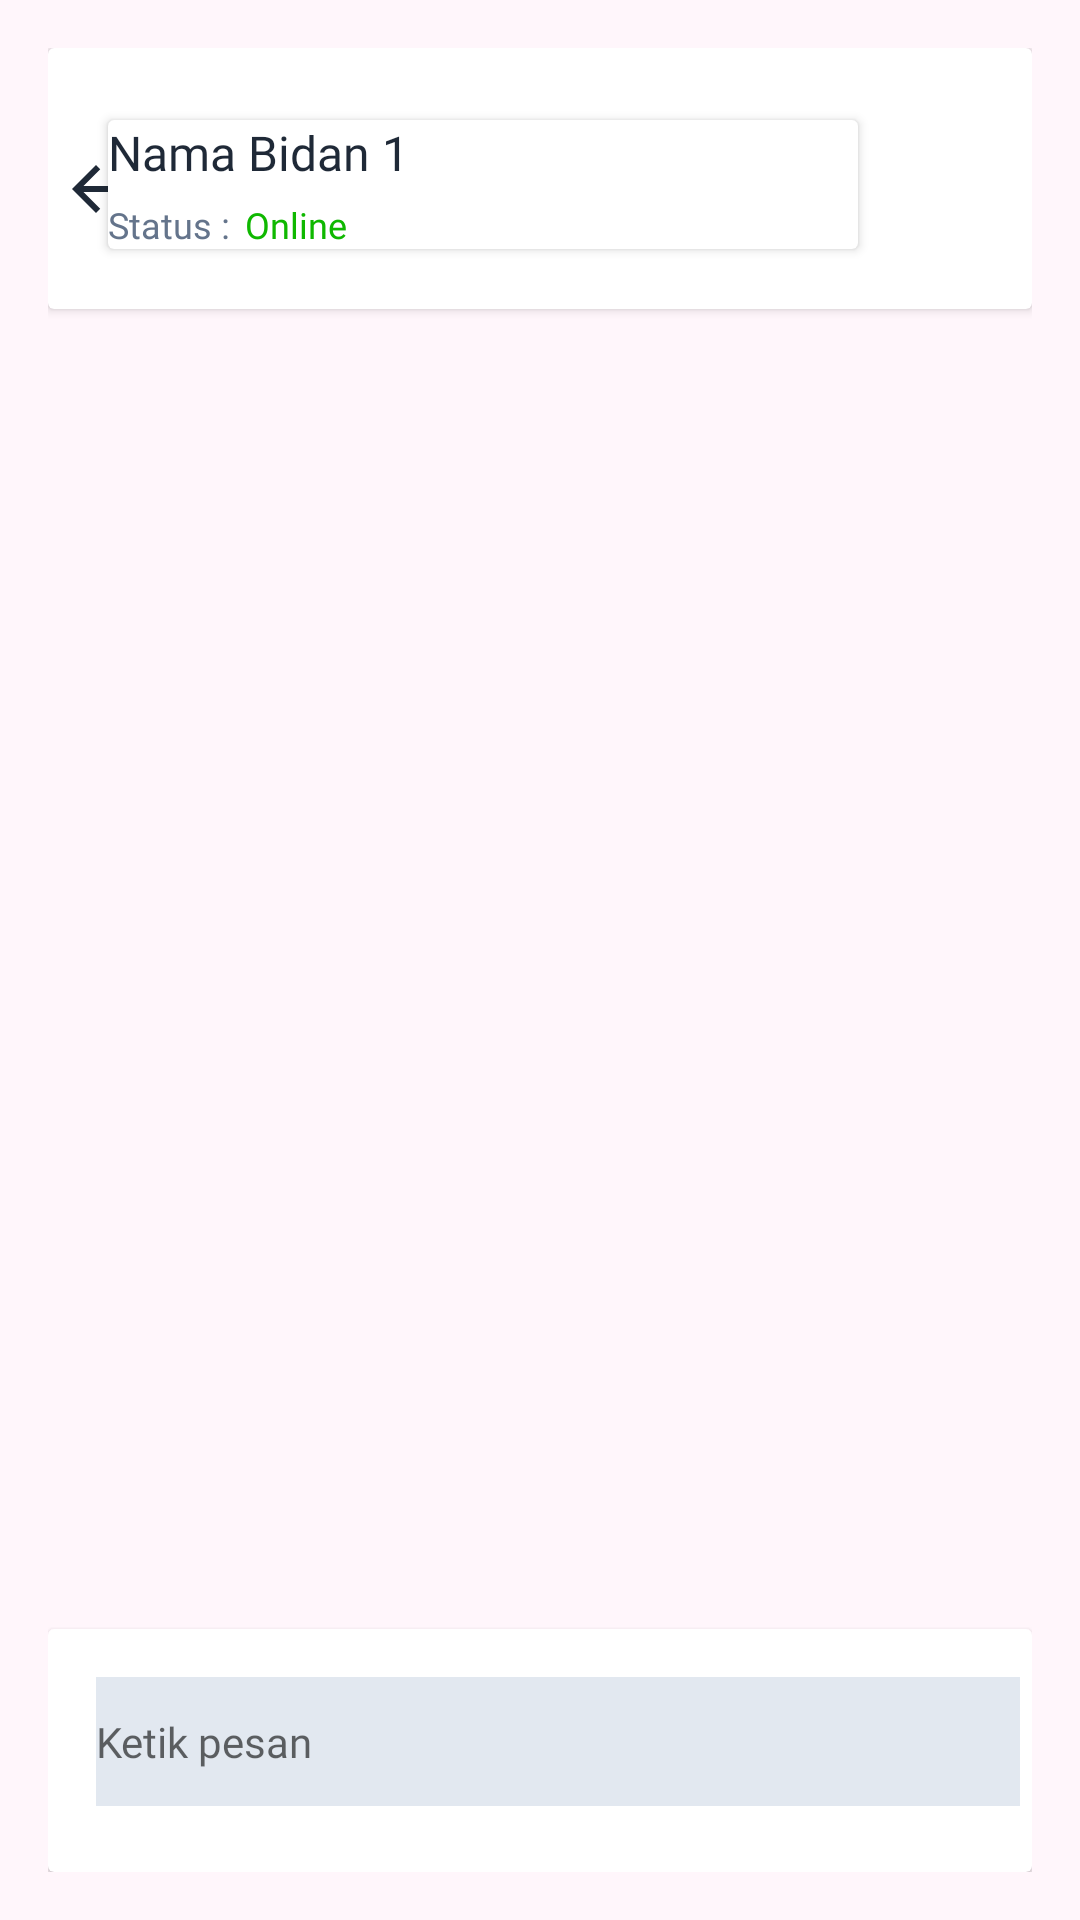

Screen size 1080px x 1920px. Icon name, then its box in pixels as (x1, y1, x2, y2):
back: (72, 153, 132, 225)
